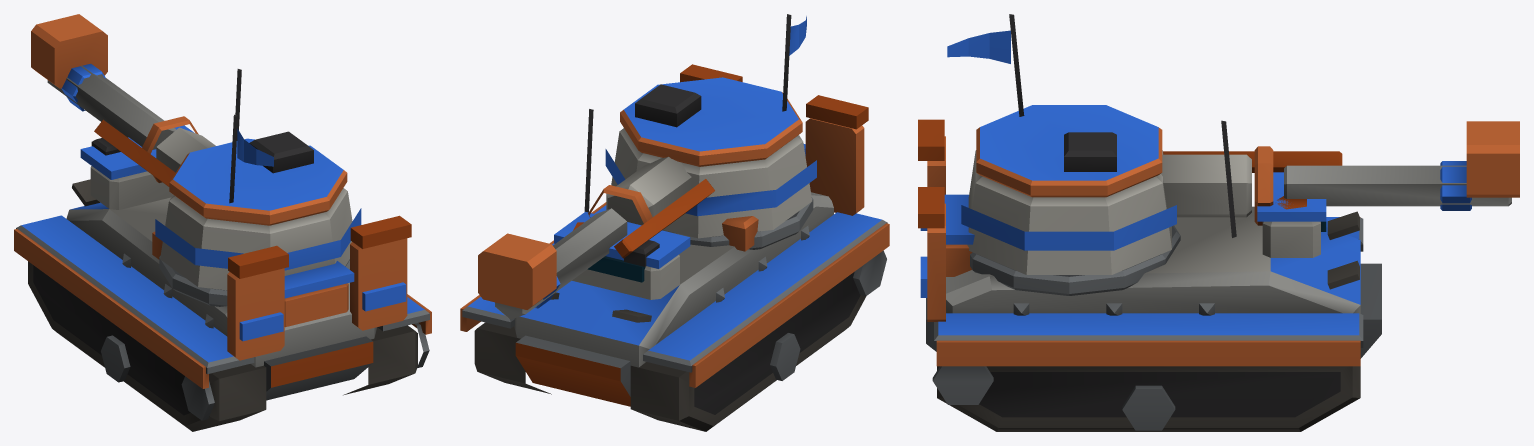
3 renders of one model, left to right at view 1: azimuth 30°, elevation 25°; view 2: azimuth 150°, elevation 25°; view 3: azimuth 270°, elevation 25°, orthographic. The views are drawn at different scales.
Parts seen in each view (by area): view 1: body, turret, barrel, deploySpadeL, deploySpadeR, spinSprocketL, swayFlag; view 2: body, turret, barrel, deploySpadeL, spinSprocketL, deploySpadeR, swayFlag; view 3: body, turret, barrel, deploySpadeR, spinSprocketR, deploySpadeL, swayFlag.
Part boxes in pixels (box(x1,y1,x2,y2)): body: box(14, 69, 431, 431); turret: box(155, 114, 361, 290); barrel: box(31, 14, 215, 186); deploySpadeL: box(227, 245, 288, 360); deploySpadeR: box(350, 215, 411, 330); spinSprocketL: box(181, 376, 214, 420); swayFlag: box(237, 128, 273, 166); body: box(460, 109, 889, 431); turret: box(605, 14, 816, 238); barrel: box(478, 156, 714, 319); deploySpadeL: box(805, 95, 868, 215); spinSprocketL: box(853, 250, 886, 295); deploySpadeR: box(680, 64, 742, 82); swayFlag: box(789, 16, 806, 55); body: box(926, 120, 1381, 431); turret: box(961, 14, 1176, 274); barrel: box(1161, 121, 1519, 225); deploySpadeR: box(918, 187, 945, 321); spinSprocketR: box(932, 366, 993, 404); deploySpadeL: box(918, 119, 945, 230); swayFlag: box(947, 30, 1010, 63).
Bounding box in the file's own units: 1.12 × 1.4 × 2.27.
